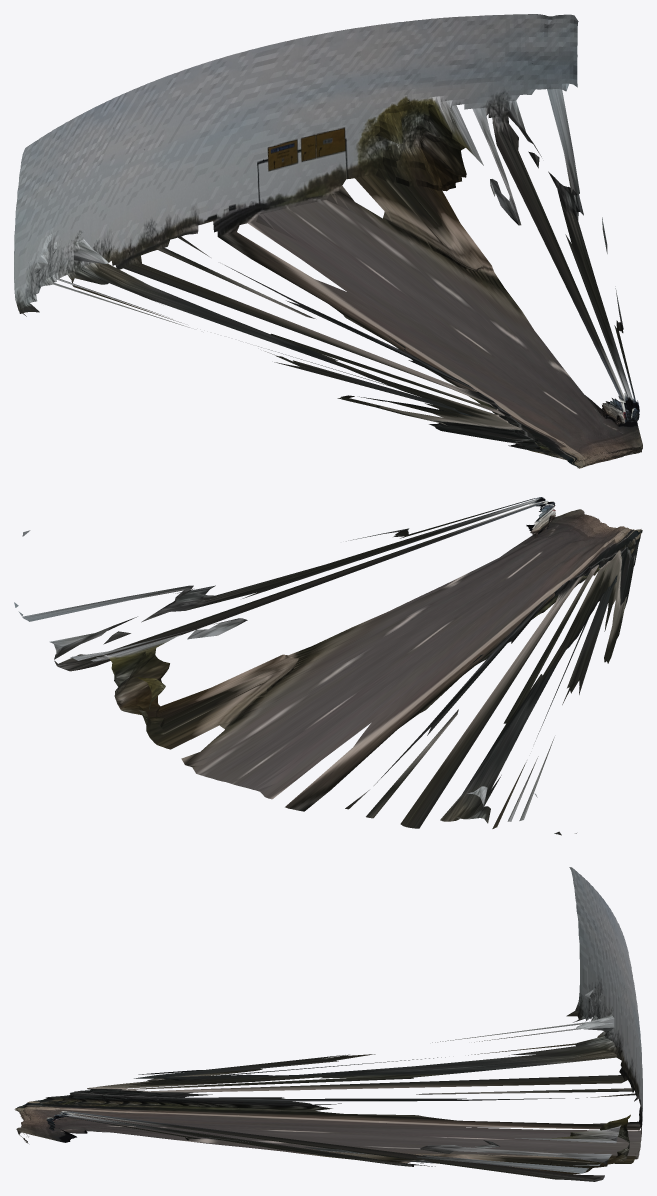
3 renders of one model, top to bottom at view 1: azimuth 30°, elevation 25°; view 2: azimuth 150°, elevation 25°; view 3: azimuth 270°, elevation 25°, orthographic. The views are drawn at different scales.
Visible parts, largest first — view 1: defaultobject; view 2: defaultobject; view 3: defaultobject.
Boxes of the visible parts, x1,y1,x2,y2 form: defaultobject: [14, 14, 642, 468]; defaultobject: [14, 497, 642, 835]; defaultobject: [14, 867, 642, 1181].
Bounding box in the file's own units: 41.03 × 12.93 × 44.62.
Materials: 1 (1 with a texture image).
